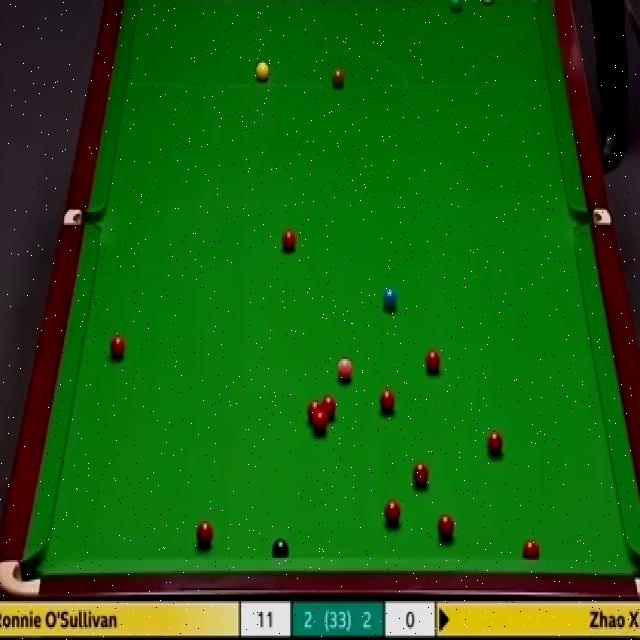black-ball: (272, 535, 290, 559)
blue-ball: (382, 286, 398, 312)
brown-ball: (330, 65, 345, 90)
green-ball: (446, 0, 463, 13)
pink-ball: (337, 353, 354, 382)
red-ball: (411, 459, 430, 492), (424, 347, 442, 378), (108, 333, 127, 362), (436, 514, 454, 542), (486, 430, 504, 458), (384, 498, 401, 527), (197, 519, 214, 547), (378, 388, 395, 415), (322, 395, 337, 422), (282, 228, 298, 253), (523, 538, 540, 559), (308, 399, 322, 422), (314, 413, 328, 435)
white-ball: (479, 0, 494, 6)
yellow-ball: (254, 60, 269, 81)
